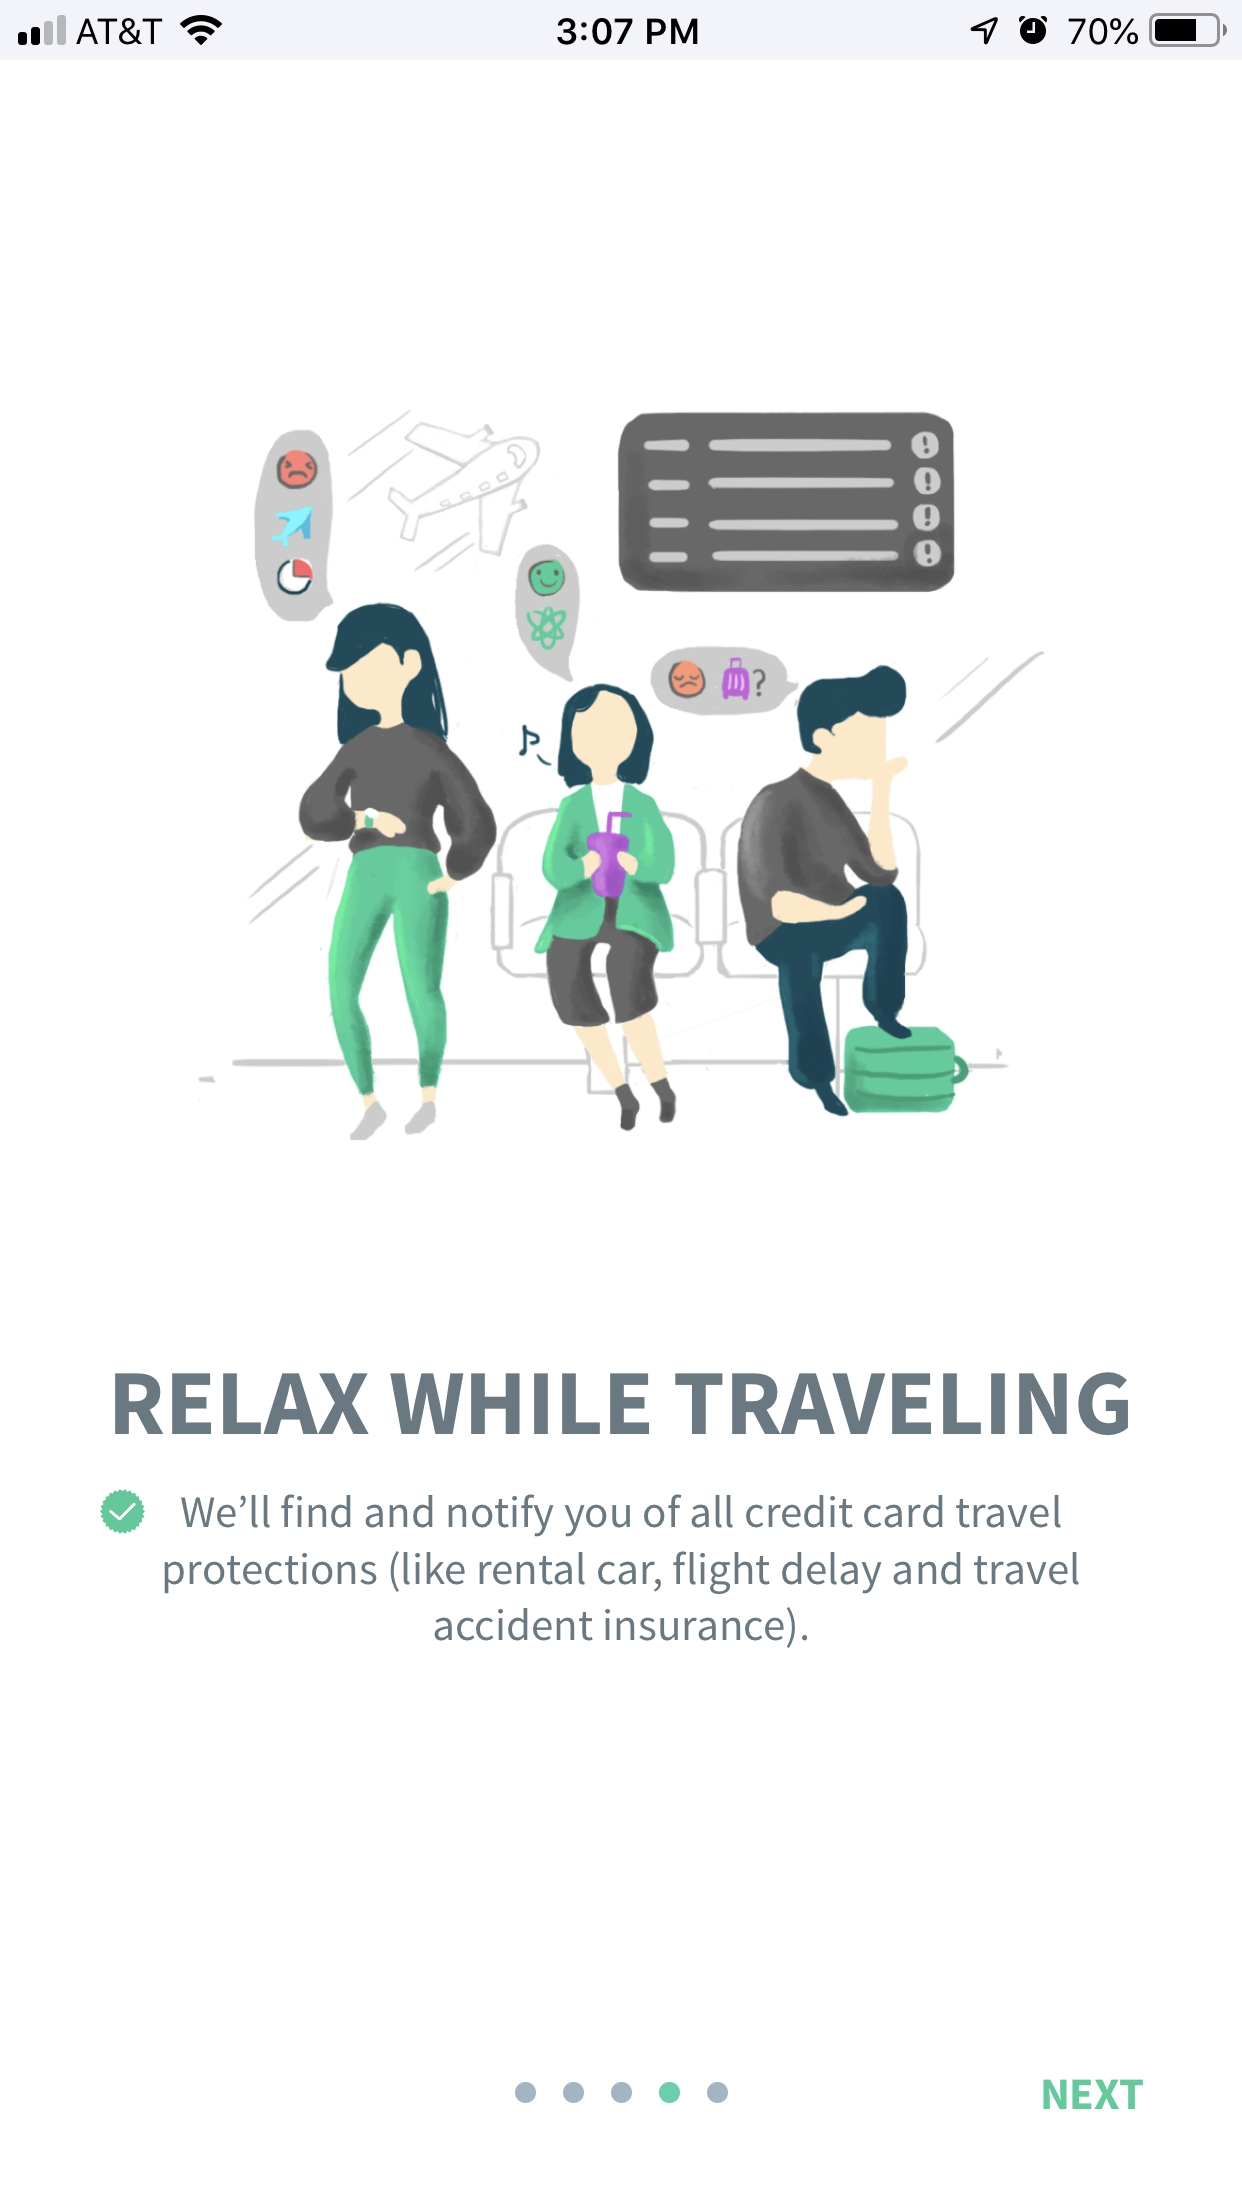Icon: (102, 1489, 147, 1535)
Image: (199, 409, 1046, 1140)
PageIndicator: (516, 2081, 729, 2105)
Text: (164, 1494, 1080, 1648), (115, 1371, 1128, 1436), (1042, 2078, 1143, 2109)
UpperTaskBar: (2, 2, 1242, 61)
